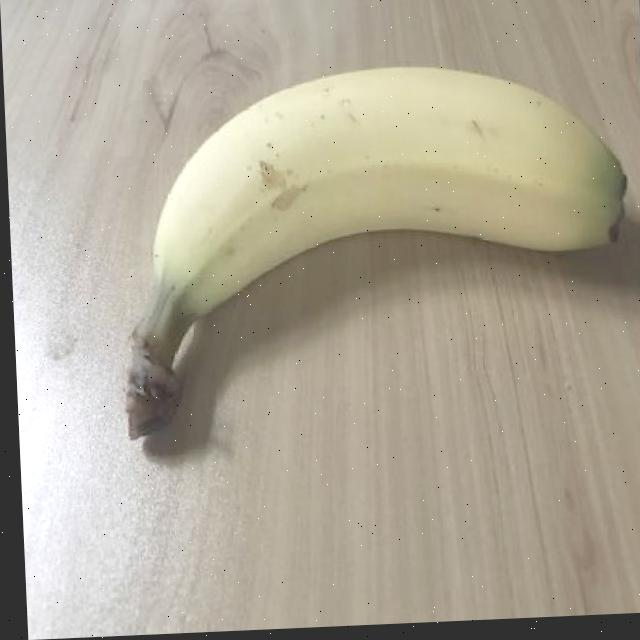banana: (105, 54, 638, 434)
